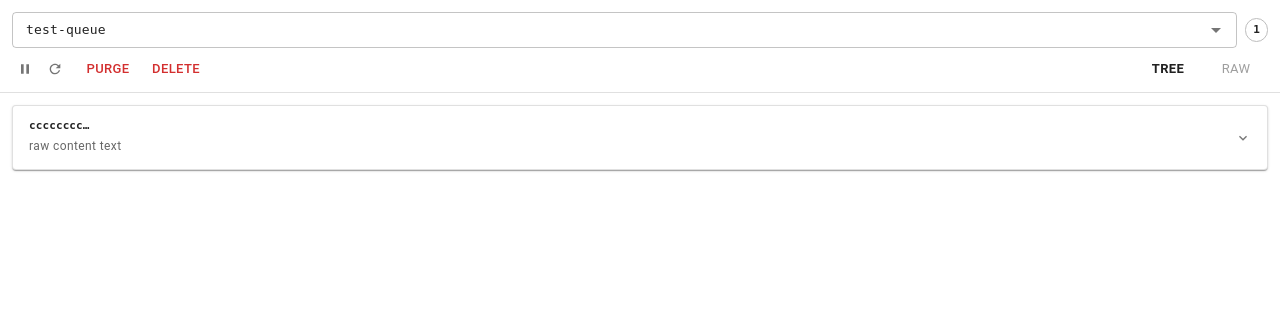
Test: <QueueColumn /> › clicking Raw button switches body view to raw (pre element) after expansion
The image size is (1280, 310).
Expand accordion
Click the button "cccccccc… raw content text" at (56, 126), box [13, 106, 1267, 169]
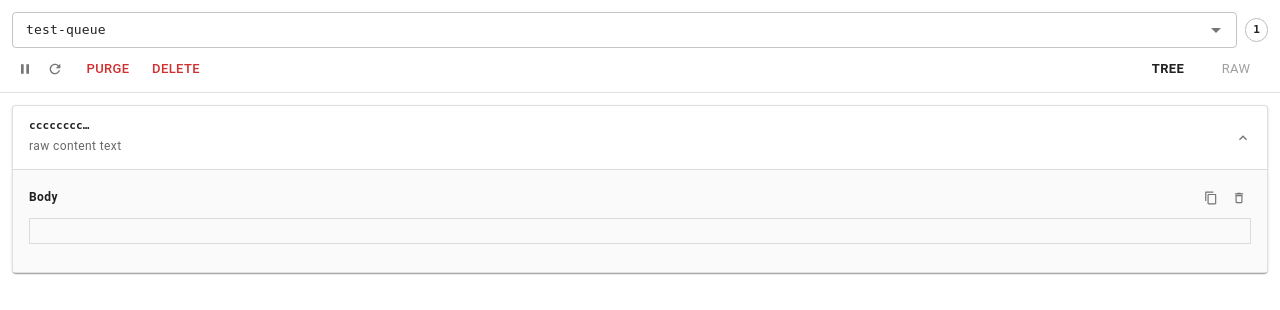
Check: the text "Body" is shown, box [29, 188, 58, 208]
Switch to Raw view
Click the button "Raw" at (1236, 69), box [1204, 54, 1268, 84]
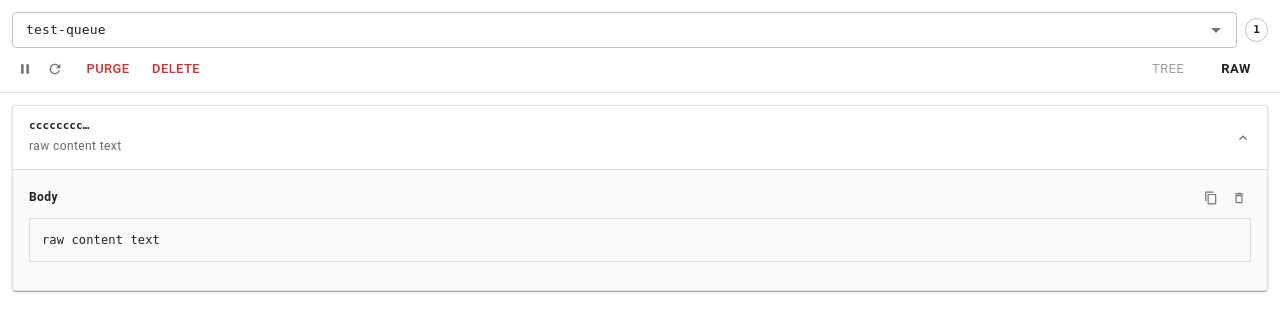
Check: the text "raw content text" below "Body" is shown, box [42, 233, 160, 247]
